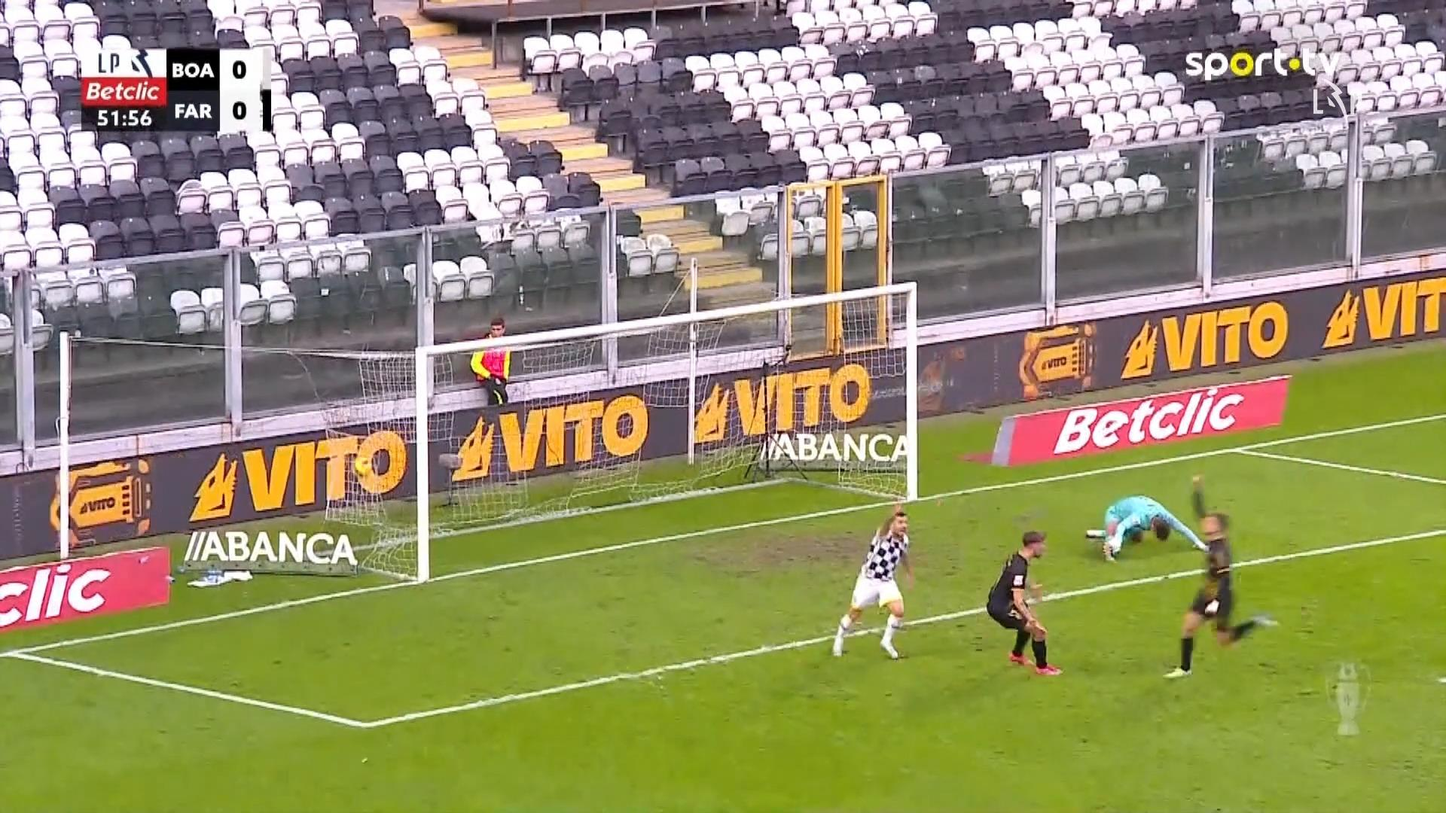ball: (353, 455, 373, 477), (1288, 56, 1301, 70)
goalkeeper: (1098, 494, 1207, 562)
player: (1161, 473, 1278, 680), (830, 506, 915, 659), (984, 529, 1063, 675)
